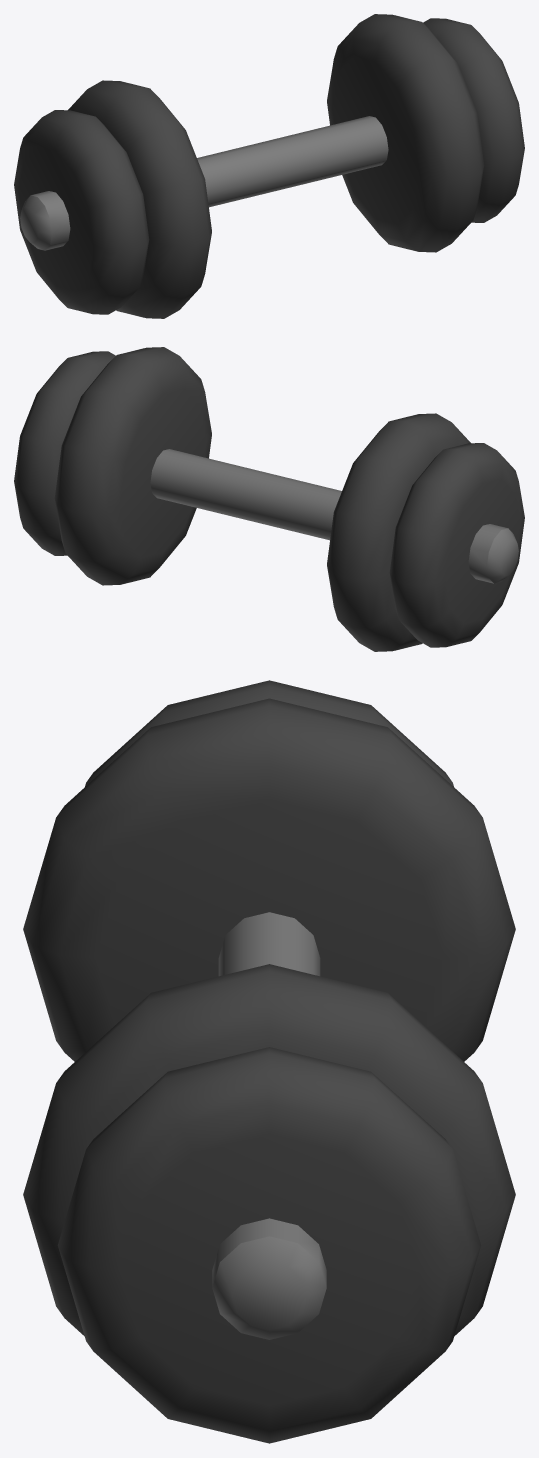
The model's file is Dumbell.fbx.
3 views of the same model, one above another, from view 1: azimuth 30°, elevation 25°; view 2: azimuth 150°, elevation 25°; view 3: azimuth 270°, elevation 25° (orthographic). The views are drawn at different scales.
Visible parts, largest first — view 1: Dumbell; view 2: Dumbell; view 3: Dumbell.
Boxes of the visible parts, box(x1,y1,x2,y2) form: Dumbell: box(14, 14, 524, 318); Dumbell: box(14, 347, 524, 651); Dumbell: box(23, 680, 515, 1443).
Size of the model in its own units: 0.3534 by 0.157 by 0.157.
